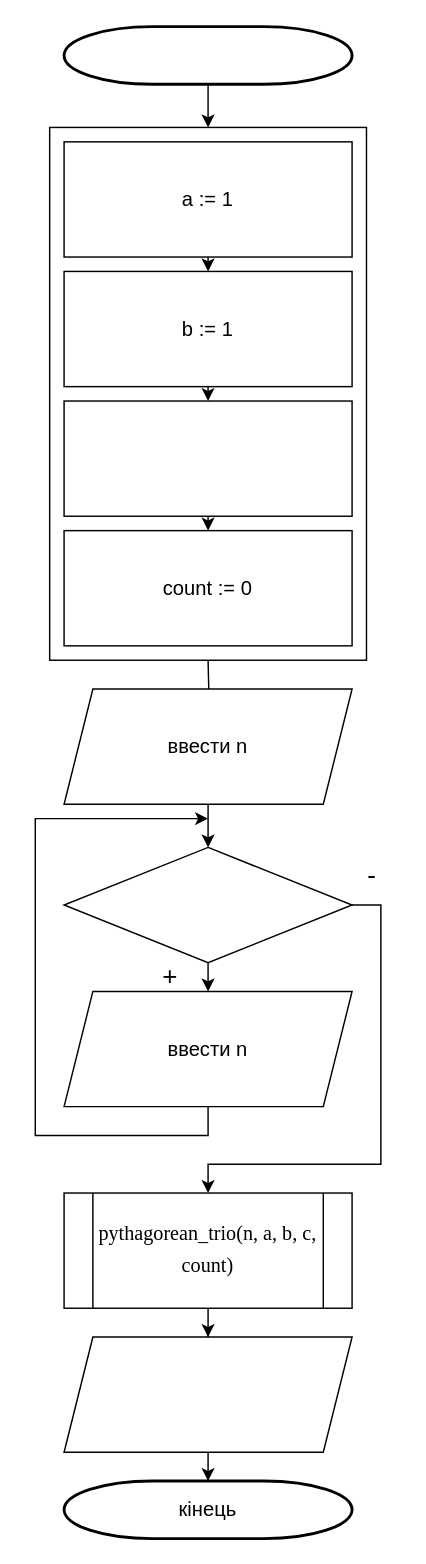
Image size: 426x1564. Some labels were removed from this diagram. Each missing label, with the box of its shape:
c := 1: (63, 400, 352, 516)
n <= 0: (63, 846, 352, 963)
вивести count: (63, 1336, 352, 1452)
початок: (62, 24, 353, 85)
